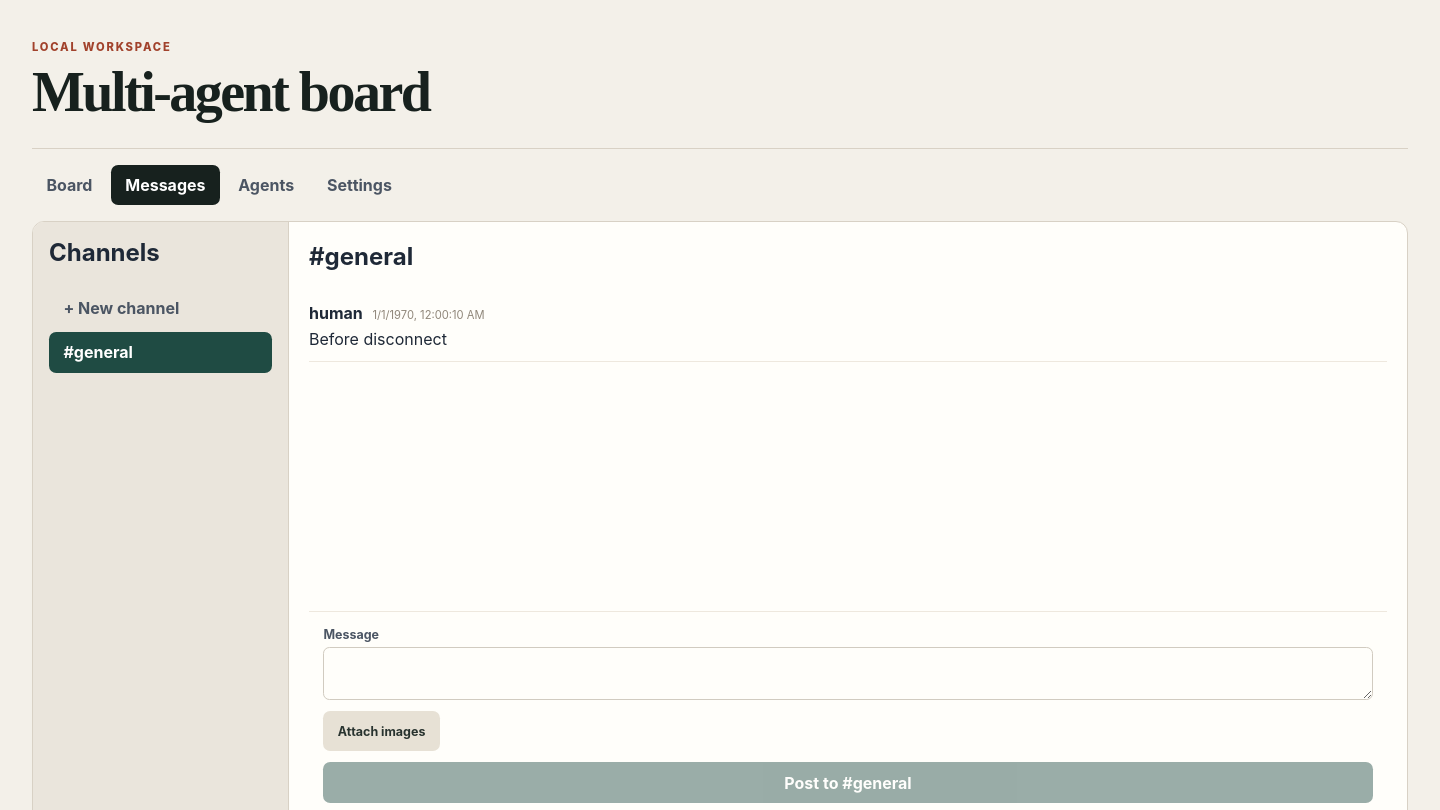
Test case: App agent routes › applies a scoped message reset once and preserves its draft
Expected: the text "Before disconnect" is shown, x1=309 y1=329 x2=447 y2=349
Type "Unsent reply" into the text box labelled "Message" at [848, 674], box x1=323 y1=647 x2=1373 y2=700
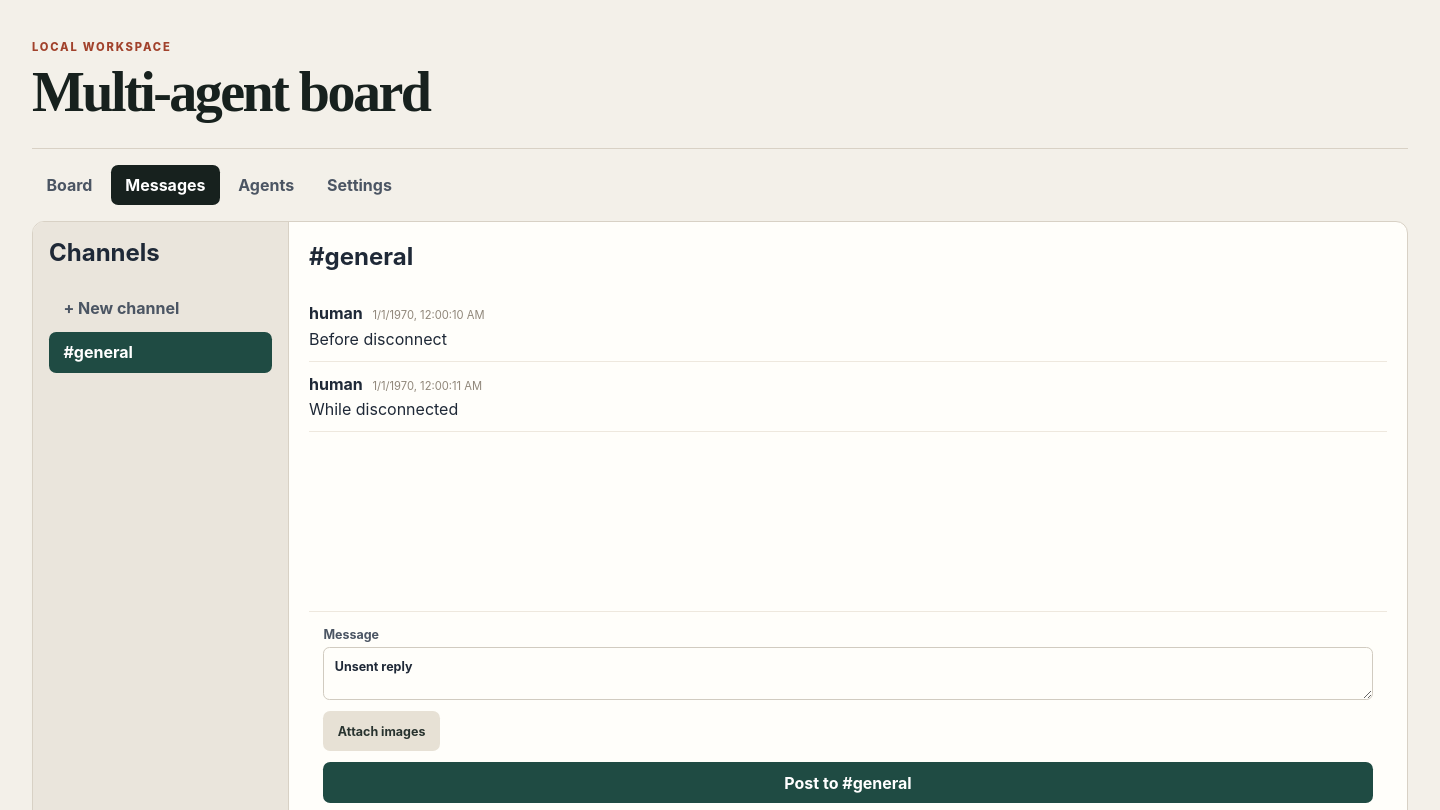
Result: the text "While disconnected" is shown at x1=309 y1=400 x2=458 y2=420
Result: the text "Before disconnect" is shown once at x1=309 y1=329 x2=447 y2=349
